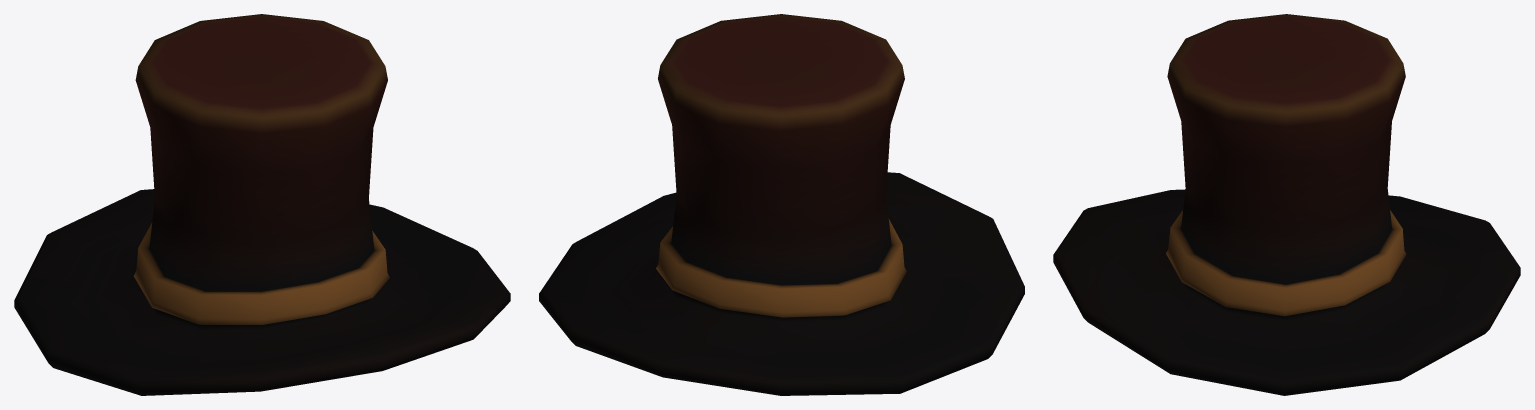
Rendered from Cylinder_cap_01.fbx.
The picture shows the model from 3 angles, left to right: view 1: azimuth 30°, elevation 25°; view 2: azimuth 150°, elevation 25°; view 3: azimuth 270°, elevation 25°; orthographic projection. The views are drawn at different scales.
Parts seen in each view (by area): view 1: Cylinder_cap_01; view 2: Cylinder_cap_01; view 3: Cylinder_cap_01.
Part boxes in pixels (left/top/right/bottom): Cylinder_cap_01: left=14, top=14, right=510, bottom=395; Cylinder_cap_01: left=539, top=14, right=1024, bottom=395; Cylinder_cap_01: left=1053, top=14, right=1520, bottom=395.
Bounding box in the file's own units: 124 × 72.32 × 124.
